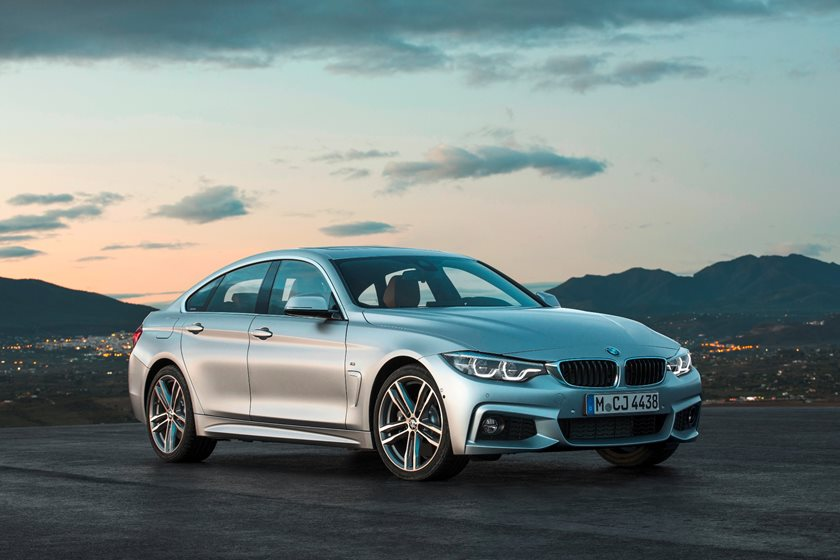bmw: (122, 243, 706, 482)
